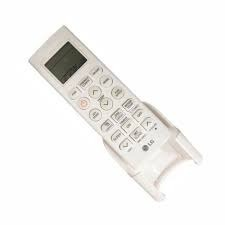remote control: (13, 27, 203, 203)
